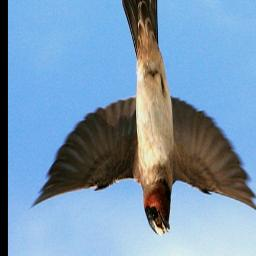Swallow: (30, 0, 256, 238)
